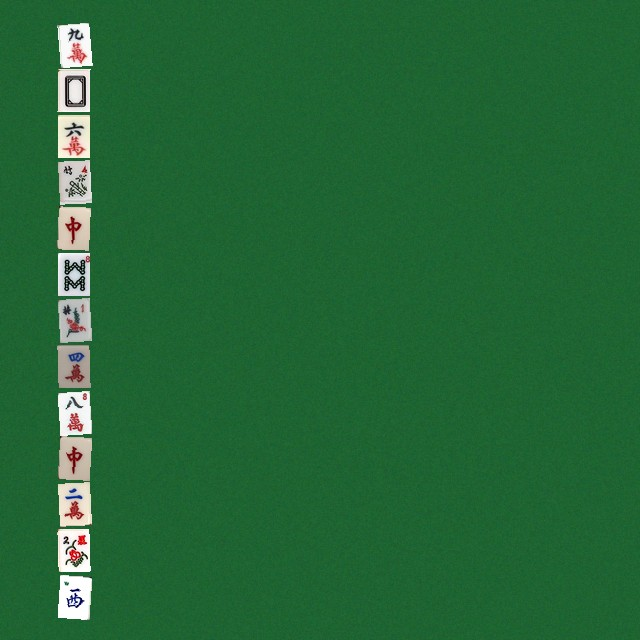tile: (57, 22, 89, 65), (57, 68, 89, 111), (57, 114, 89, 157), (57, 160, 89, 203), (57, 206, 89, 249), (57, 252, 89, 295), (57, 298, 89, 341), (57, 344, 89, 387), (57, 390, 89, 433), (57, 436, 89, 479), (57, 482, 89, 525), (57, 528, 89, 571), (57, 574, 89, 617)
